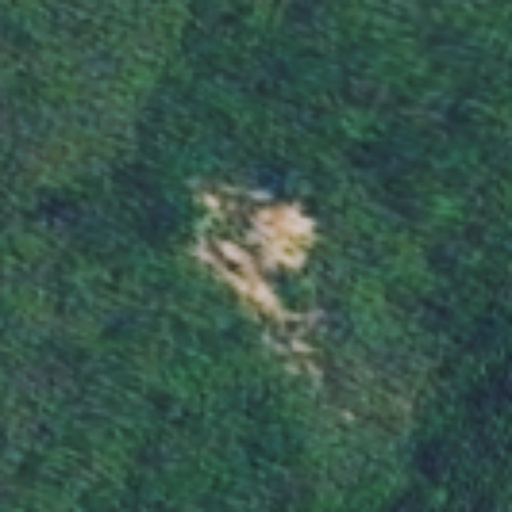landslide: (191, 180, 318, 362)
